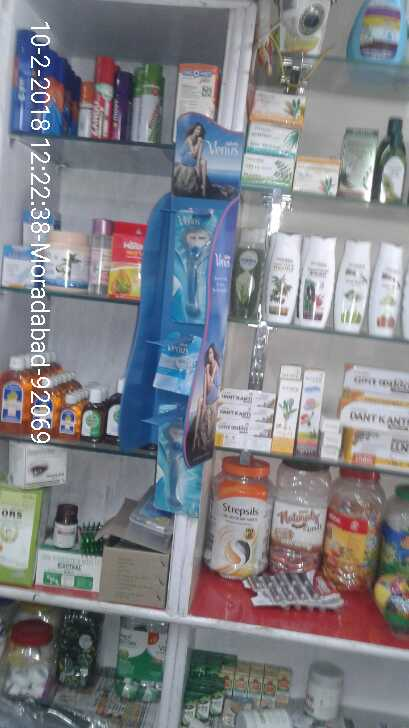venus: (167, 191, 229, 324), (154, 404, 207, 523), (150, 326, 195, 390)
